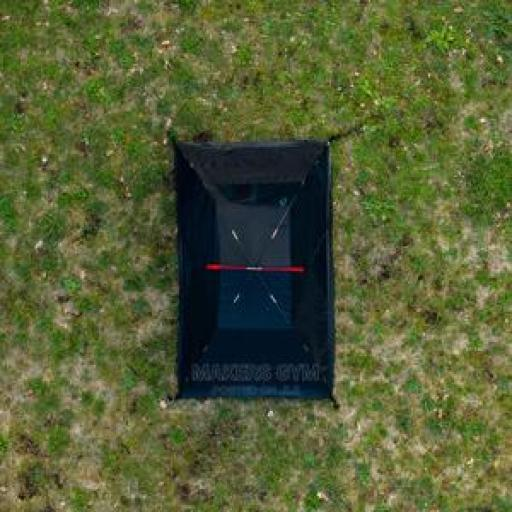tent: (172, 140, 333, 399)
